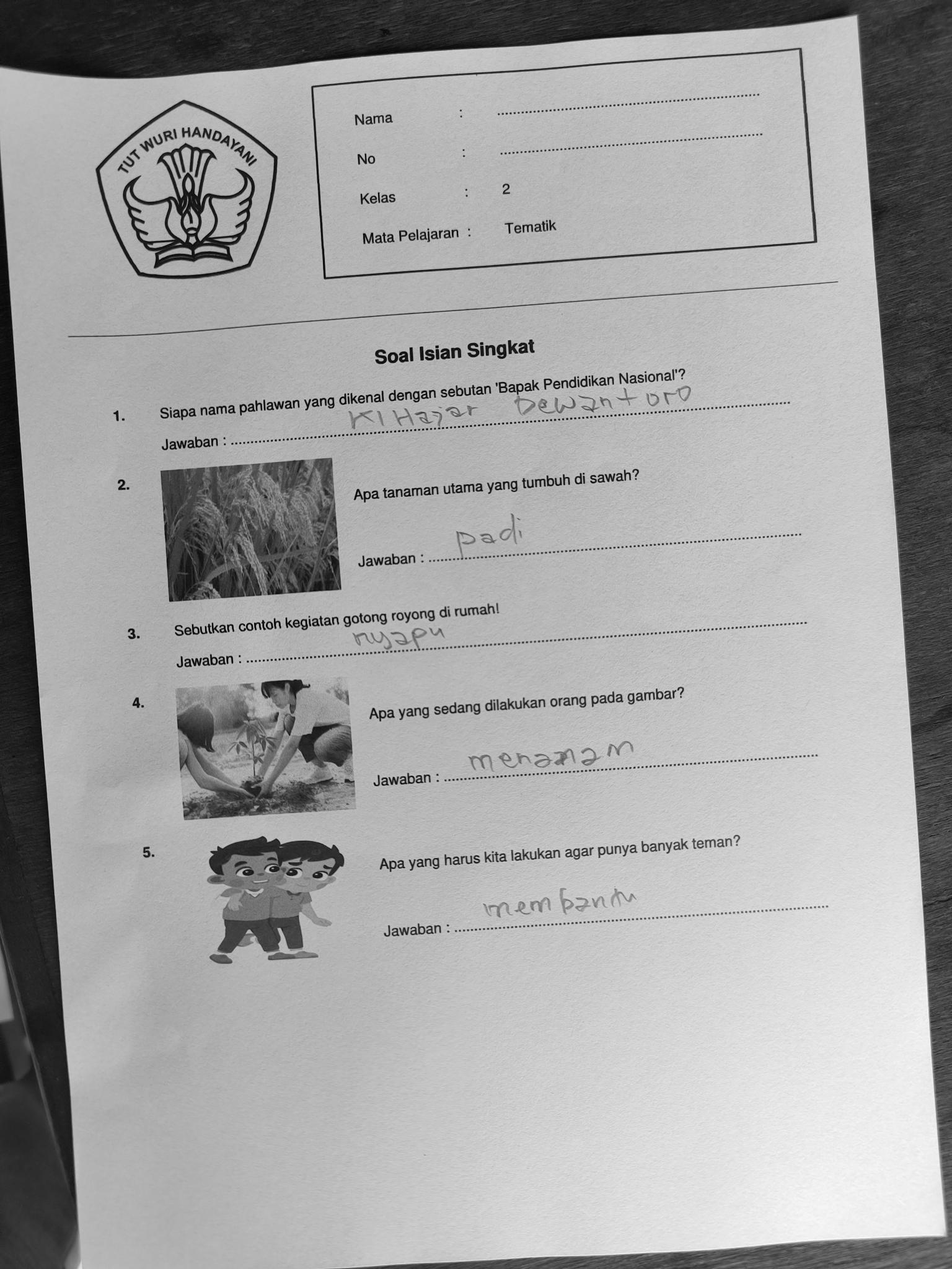soal-1: (91, 344, 821, 465)
soal-2: (102, 420, 831, 610)
soal-3: (117, 564, 831, 683)
soal-4: (118, 639, 846, 833)
soal-5: (129, 786, 856, 984)
